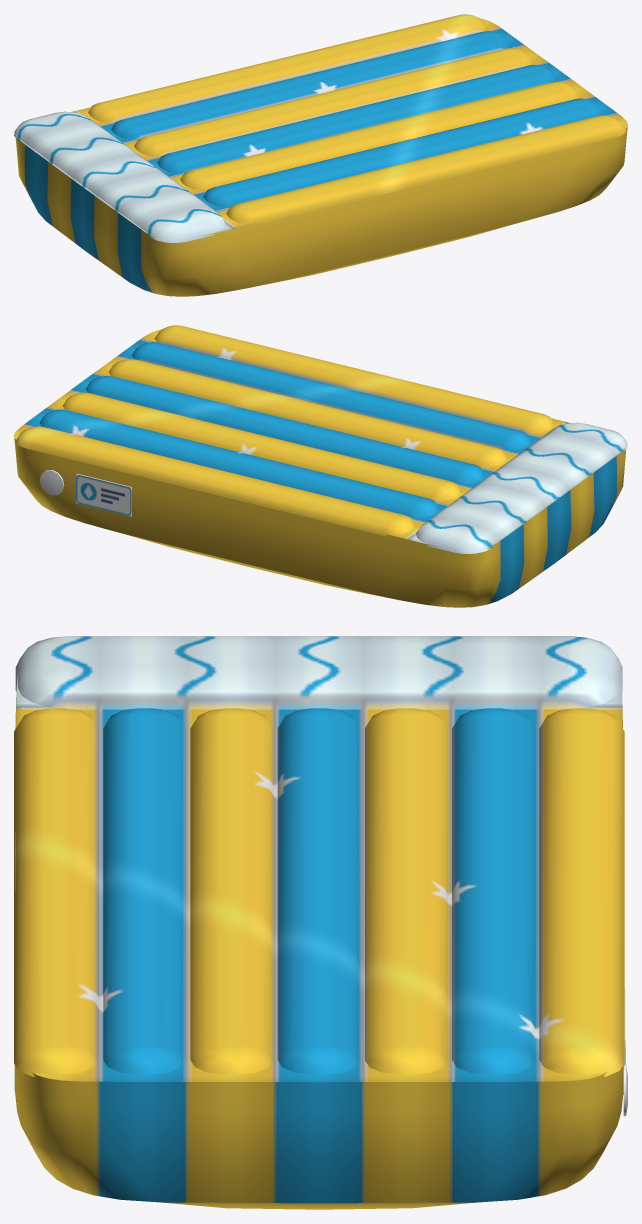
File: pool_air_mattress.glb
The picture shows the model from 3 angles, top to bottom: view 1: azimuth 30°, elevation 25°; view 2: azimuth 150°, elevation 25°; view 3: azimuth 270°, elevation 25°; orthographic projection. The views are drawn at different scales.
Parts seen in each view (by area): view 1: pool_air_mattress_LOD0; view 2: pool_air_mattress_LOD0; view 3: pool_air_mattress_LOD0.
Part boxes in pixels (<box>): pool_air_mattress_LOD0: <box>14,14,627,296</box>; pool_air_mattress_LOD0: <box>14,325,627,607</box>; pool_air_mattress_LOD0: <box>14,636,627,1209</box>.
Size of the model in its own units: 12 by 2.03 by 7.04.
1 material, 1 textured.
